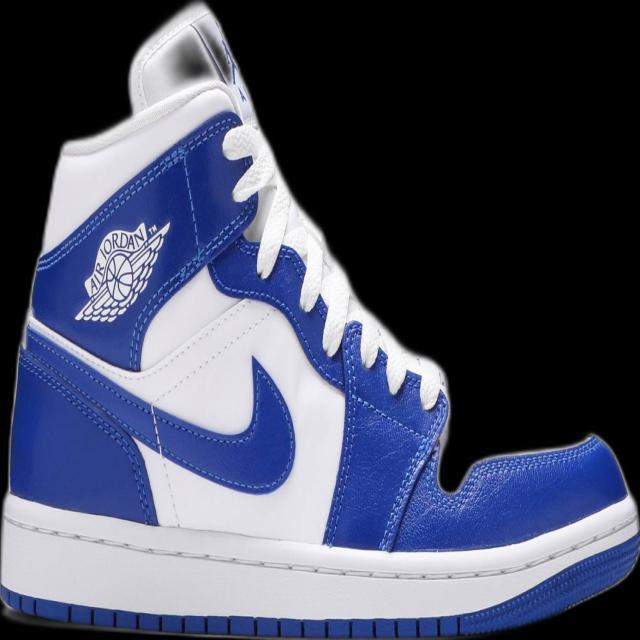J1_InsoleChar: (0, 1, 639, 638)
J1_ShoeLogo: (72, 218, 171, 324)
J1_StitchPattern: (1, 432, 638, 635), (218, 116, 448, 413), (17, 295, 278, 523), (2, 504, 638, 588), (219, 117, 355, 359), (17, 342, 158, 524), (2, 591, 465, 638), (147, 295, 274, 411), (219, 118, 293, 280), (145, 401, 183, 529)
